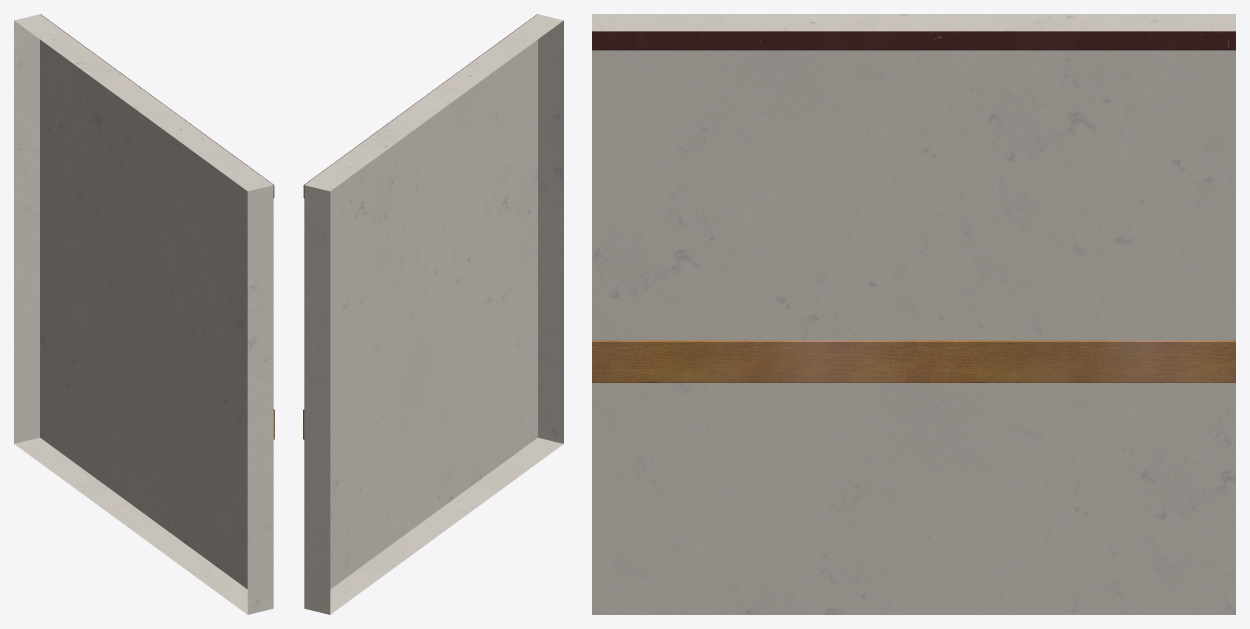
The model's file is SM_InteriorWall01b_001.fbx.
3 views of the same model, side by side, from view 1: azimuth 30°, elevation 25°; view 2: azimuth 150°, elevation 25°; view 3: azimuth 270°, elevation 25° (orthographic). The views are drawn at different scales.
Parts seen in each view (by area): view 1: SM_InteriorWall01b.001; view 2: SM_InteriorWall01b.001; view 3: SM_InteriorWall01b.001.
Part boxes in pixels (x1,y1,x2,y2): SM_InteriorWall01b.001: (14,14,274,614); SM_InteriorWall01b.001: (303,14,563,614); SM_InteriorWall01b.001: (592,14,1235,614).
Size of the model in its own units: 20.04 by 300 by 300.
